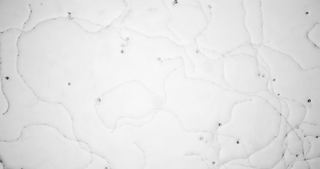germinated: (96, 94, 104, 103), (156, 56, 165, 63), (206, 3, 213, 12), (119, 41, 128, 48), (198, 135, 205, 143)
nongerminated: (305, 96, 312, 105), (303, 9, 310, 17), (66, 80, 72, 87), (194, 48, 200, 55), (271, 76, 278, 82), (261, 72, 267, 79), (4, 74, 10, 81), (235, 139, 241, 145), (216, 121, 222, 127), (210, 160, 216, 166), (276, 91, 282, 97)
